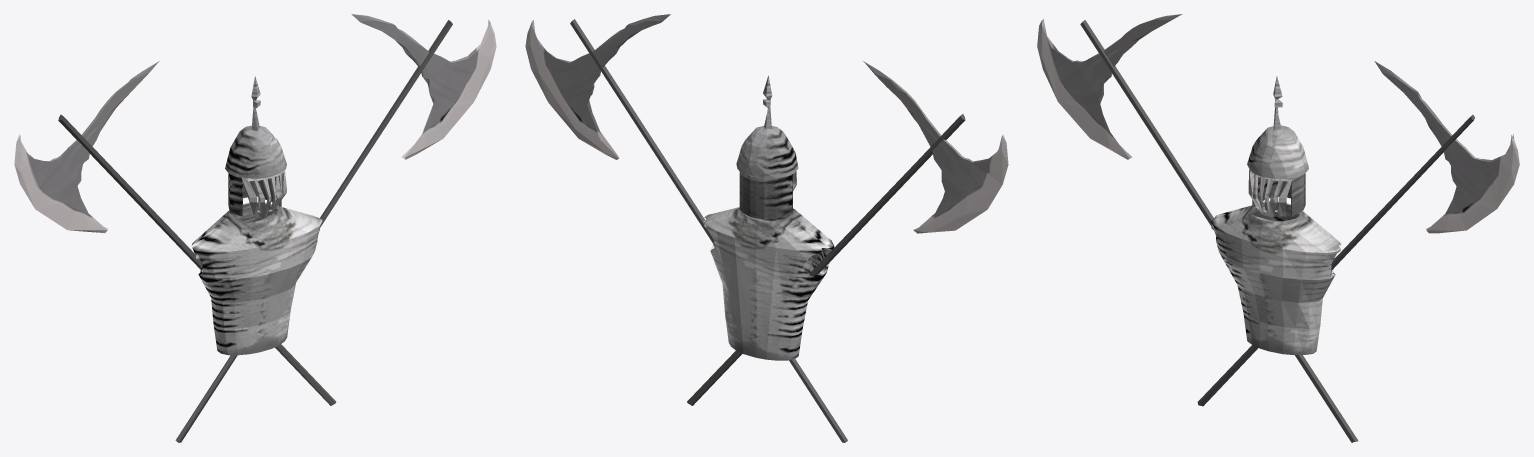
Rendered from CoatOArm.glb.
The picture shows the model from 3 angles, left to right: view 1: azimuth 30°, elevation 25°; view 2: azimuth 150°, elevation 25°; view 3: azimuth 330°, elevation 25°; orthographic projection.
Visible parts, largest first — view 1: CoatOArm; view 2: CoatOArm; view 3: CoatOArm.
Part boxes in pixels (x1,y1,x2,y2): CoatOArm: (14, 14, 496, 442); CoatOArm: (525, 14, 1008, 442); CoatOArm: (1037, 14, 1519, 442).
Bounding box in the file's own units: 527 × 404 × 57.76.
Materials: 1 (1 with a texture image).
